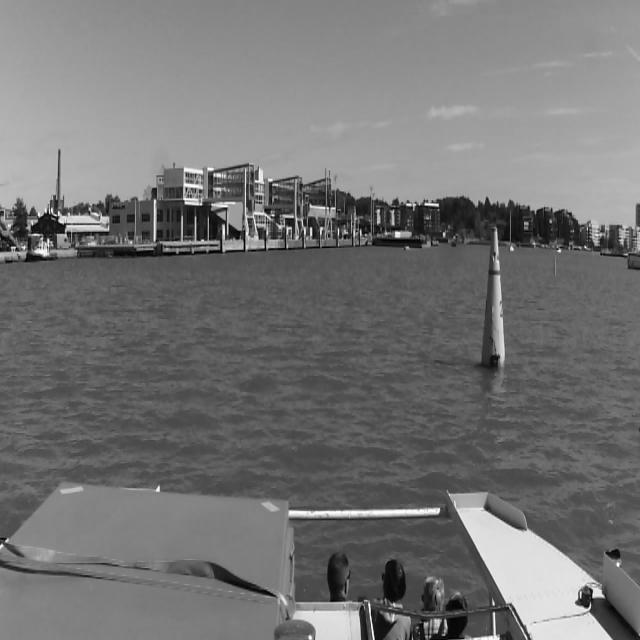buoy: (485, 225, 507, 367), (554, 258, 556, 276)
ship: (27, 238, 58, 262), (508, 209, 514, 251), (556, 246, 561, 253)
